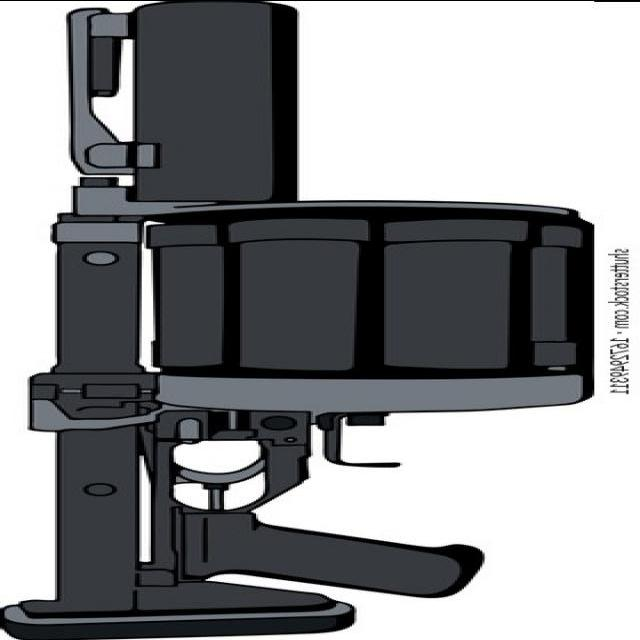rocket launcher: (4, 2, 638, 640)
